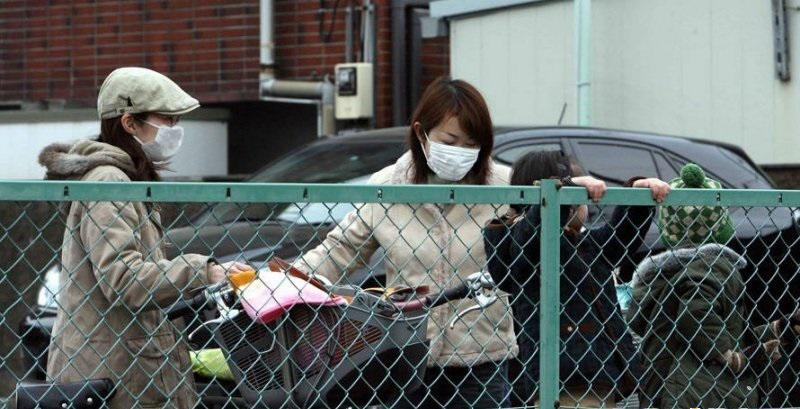OK: (424, 129, 483, 188), (135, 107, 183, 161)
